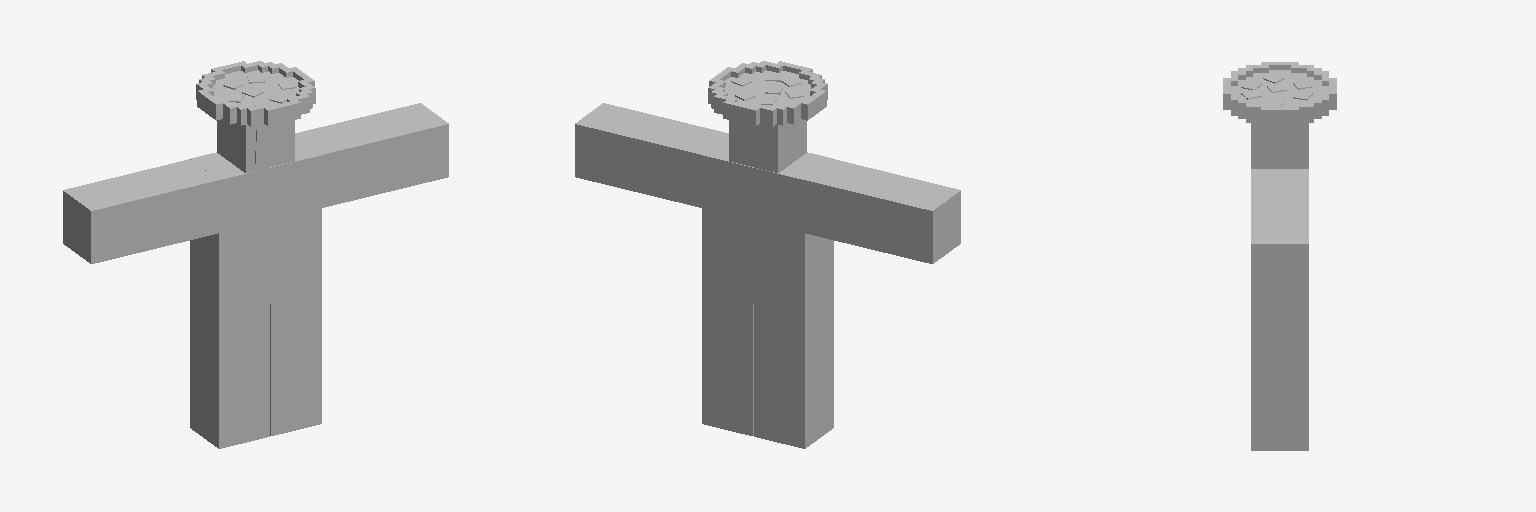
Rendered from noobini pizzanini.obj.
3 renders of one model, left to right at view 1: azimuth 30°, elevation 25°; view 2: azimuth 150°, elevation 25°; view 3: azimuth 270°, elevation 25°, orthographic.
Parts seen in each view (by area): view 1: Cube1, Cube0011; view 2: Cube1, Cube0011; view 3: Cube1, Cube0011.
Part boxes in pixels (bbox=[...]): Cube1: bbox=[63, 61, 448, 448]; Cube0011: bbox=[190, 135, 321, 315]; Cube1: bbox=[575, 61, 960, 448]; Cube0011: bbox=[702, 135, 833, 315]; Cube1: bbox=[1223, 62, 1336, 450]; Cube0011: bbox=[1251, 169, 1308, 317].
Size of the model in its own units: 6.58 by 5.98 by 1.81.